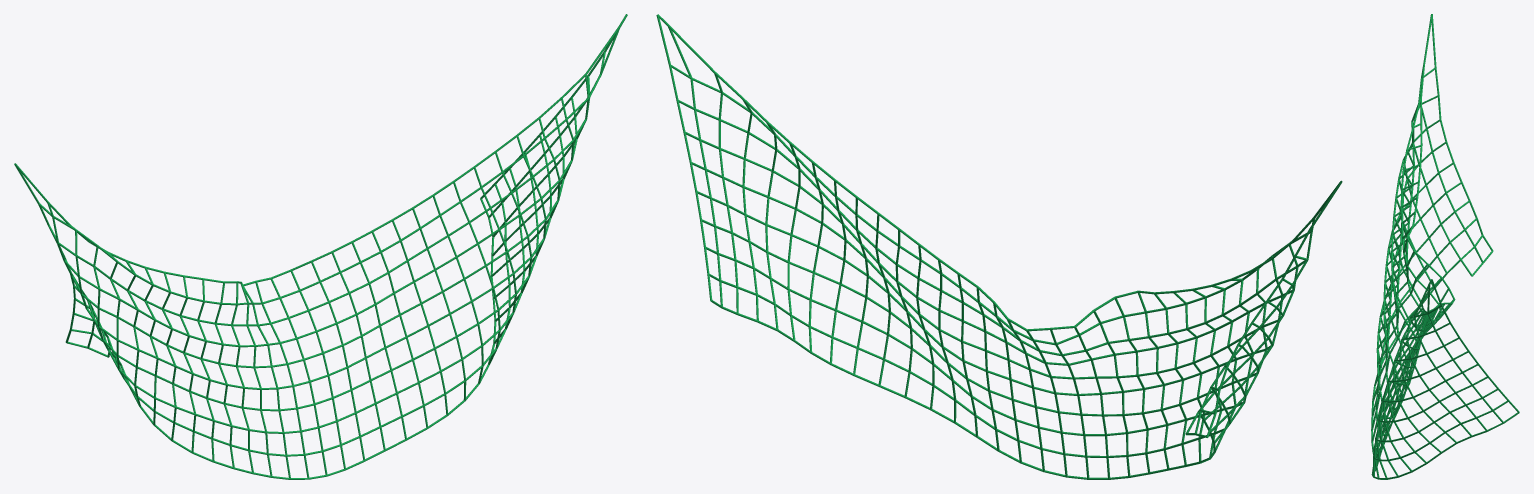
File: neT2.glb
3 renders of one model, left to right at view 1: azimuth 30°, elevation 25°; view 2: azimuth 150°, elevation 25°; view 3: azimuth 270°, elevation 25°, orthographic. The views are drawn at different scales.
Parts seen in each view (by area): view 1: netttt; view 2: netttt; view 3: netttt.
Boxes of the visible parts, x1=… form: netttt: x1=14, y1=14, x2=627, y2=479; netttt: x1=656, y1=14, x2=1342, y2=479; netttt: x1=1371, y1=14, x2=1519, y2=479.
Size of the model in its own units: 401 by 223 by 94.59.
